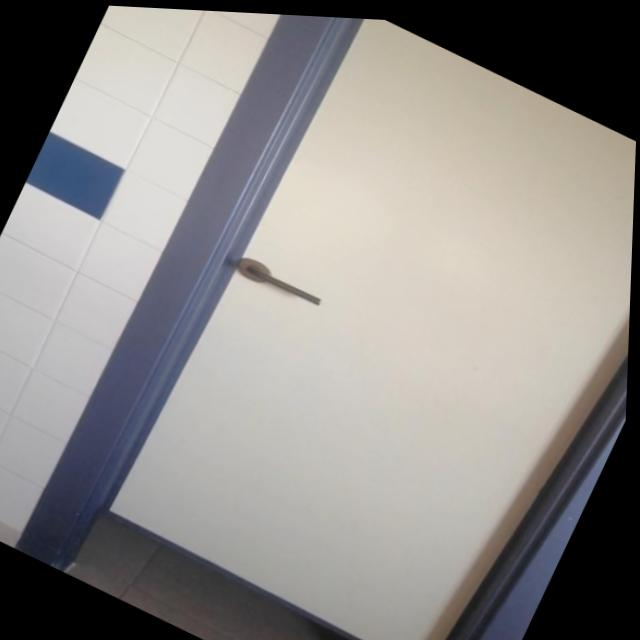door_handle: (240, 256, 328, 305)
